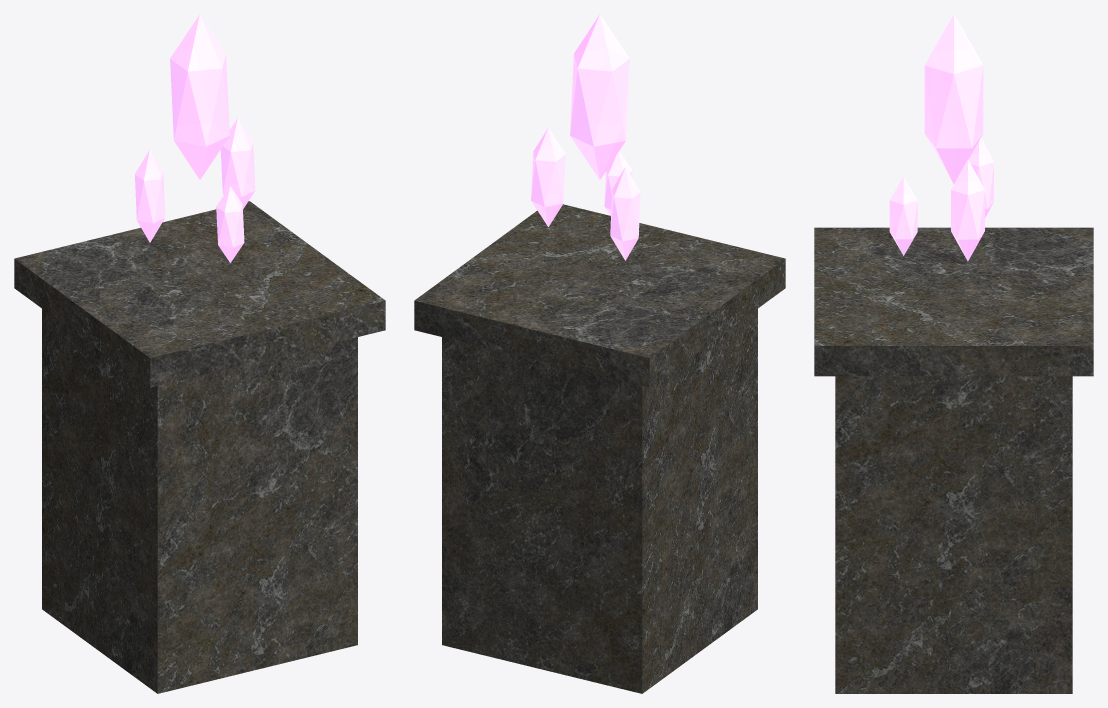
File: crystal_pylon.glb
The picture shows the model from 3 angles, left to right: view 1: azimuth 30°, elevation 25°; view 2: azimuth 150°, elevation 25°; view 3: azimuth 270°, elevation 25°; orthographic projection. The views are drawn at different scales.
Parts seen in each view (by area): view 1: crystal_pylon; view 2: crystal_pylon; view 3: crystal_pylon.
Part boxes in pixels (x1=…): crystal_pylon: x1=14, y1=14, x2=385, y2=693; crystal_pylon: x1=414, y1=14, x2=785, y2=693; crystal_pylon: x1=814, y1=14, x2=1093, y2=693.
Bounding box in the file's own units: 2 × 4.98 × 2.
Materials: 2 (1 with a texture image).
